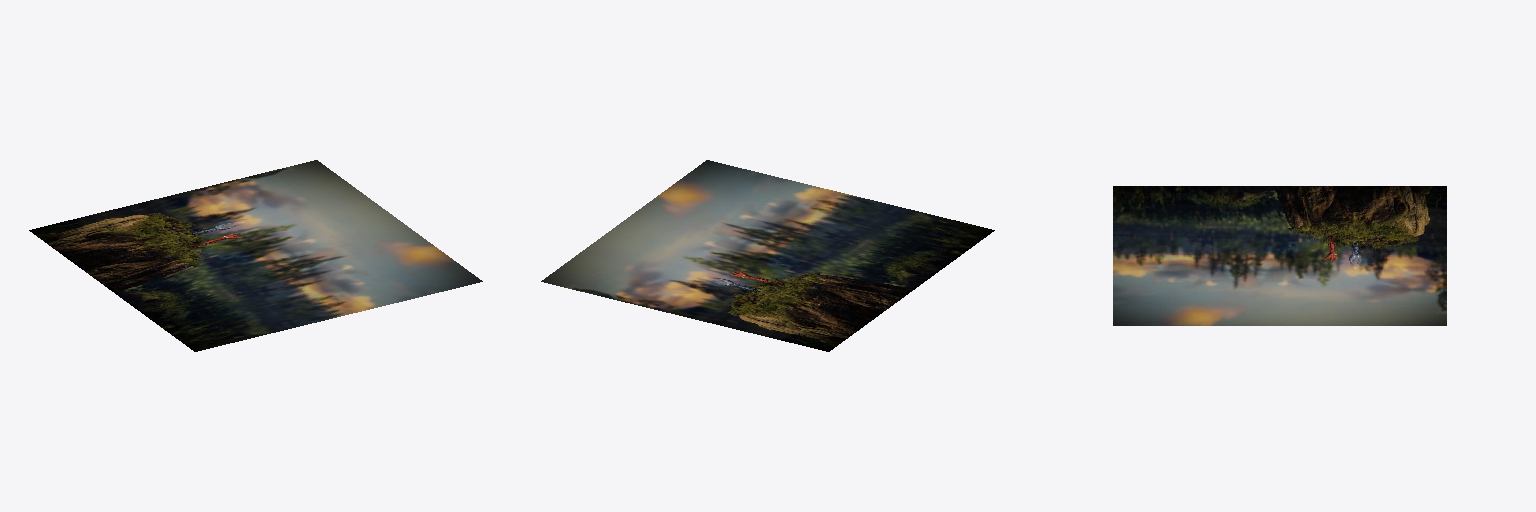
The picture shows the model from 3 angles: view 1: azimuth 30°, elevation 25°; view 2: azimuth 150°, elevation 25°; view 3: azimuth 270°, elevation 25°; orthographic projection.
Visible parts, largest first — view 1: Plane; view 2: Plane; view 3: Plane.
Boxes of the visible parts, box(x1,y1,x2,y2) form: Plane: box(29, 160, 482, 351); Plane: box(541, 160, 994, 351); Plane: box(1113, 186, 1446, 325).
Bounding box in the file's own units: 2 × 0 × 2.
Materials: 1 (1 with a texture image).